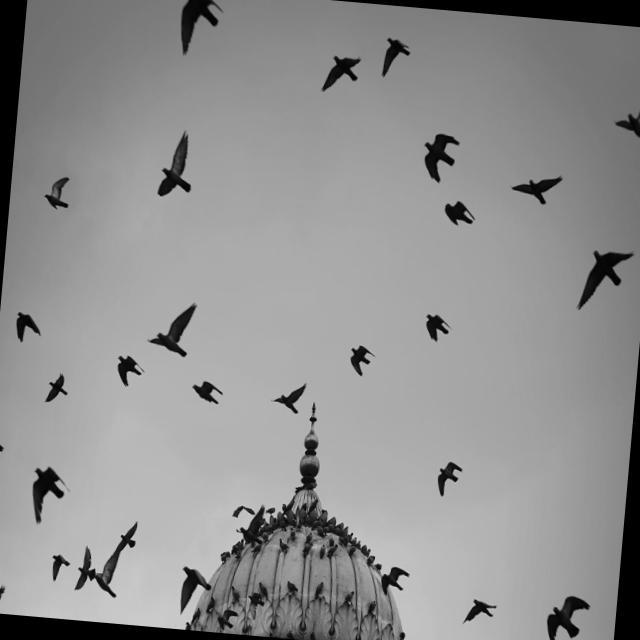bird: (574, 243, 636, 316), (144, 297, 199, 361), (27, 461, 75, 529), (154, 127, 197, 201), (173, 0, 226, 60), (419, 129, 462, 187), (543, 592, 592, 640), (507, 168, 565, 208), (175, 562, 215, 619), (610, 76, 640, 150), (90, 543, 124, 604), (319, 51, 363, 98), (268, 376, 309, 416), (71, 542, 100, 595), (380, 34, 412, 82), (40, 173, 74, 214), (113, 351, 146, 392), (460, 595, 499, 629), (434, 459, 464, 501), (378, 562, 413, 598), (421, 311, 455, 346), (346, 342, 377, 380), (111, 514, 141, 553), (13, 309, 44, 346), (189, 376, 225, 407), (442, 198, 478, 228), (43, 370, 71, 407), (48, 552, 74, 587), (230, 501, 256, 521)
